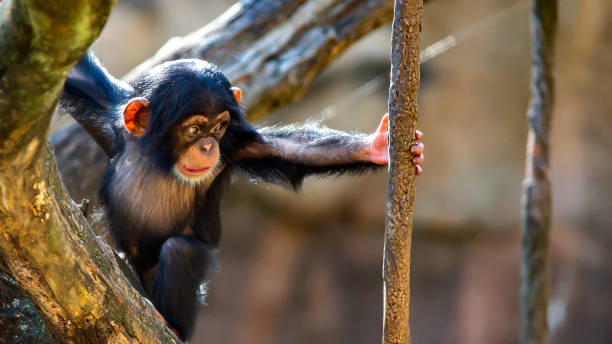chimpanzee: (117, 57, 250, 206)
